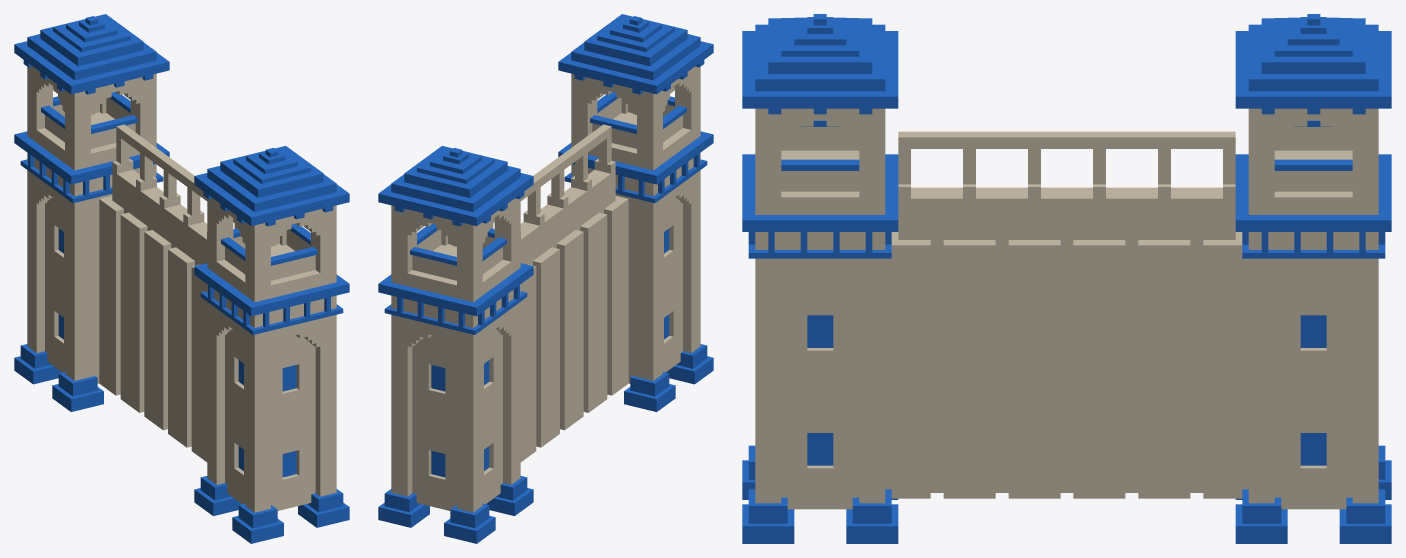
The model's file is Background_C_wall_03.FBX.
3 renders of one model, left to right at view 1: azimuth 30°, elevation 25°; view 2: azimuth 150°, elevation 25°; view 3: azimuth 270°, elevation 25°, orthographic. The views are drawn at different scales.
Parts seen in each view (by area): view 1: Background_C-2; view 2: Background_C-2; view 3: Background_C-2.
Boxes of the visible parts, x1=… form: Background_C-2: x1=14, y1=14, x2=349, y2=543; Background_C-2: x1=378, y1=14, x2=713, y2=543; Background_C-2: x1=742, y1=14, x2=1391, y2=543.
Bounding box in the file's own units: 2.4 × 8.4 × 10.
Materials: 1 (1 with a texture image).
